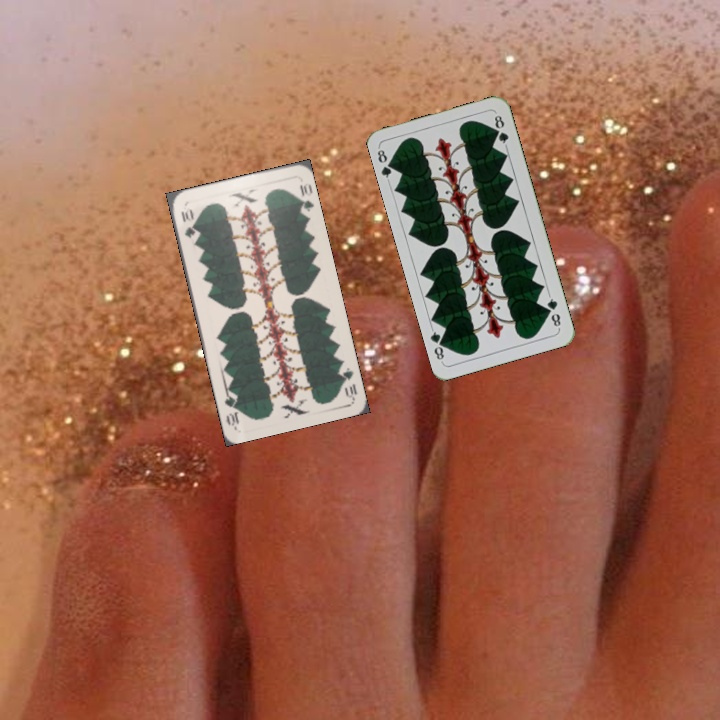G10: (335, 360, 360, 400), (177, 204, 198, 241)
G8: (373, 144, 398, 184), (543, 291, 563, 331)
